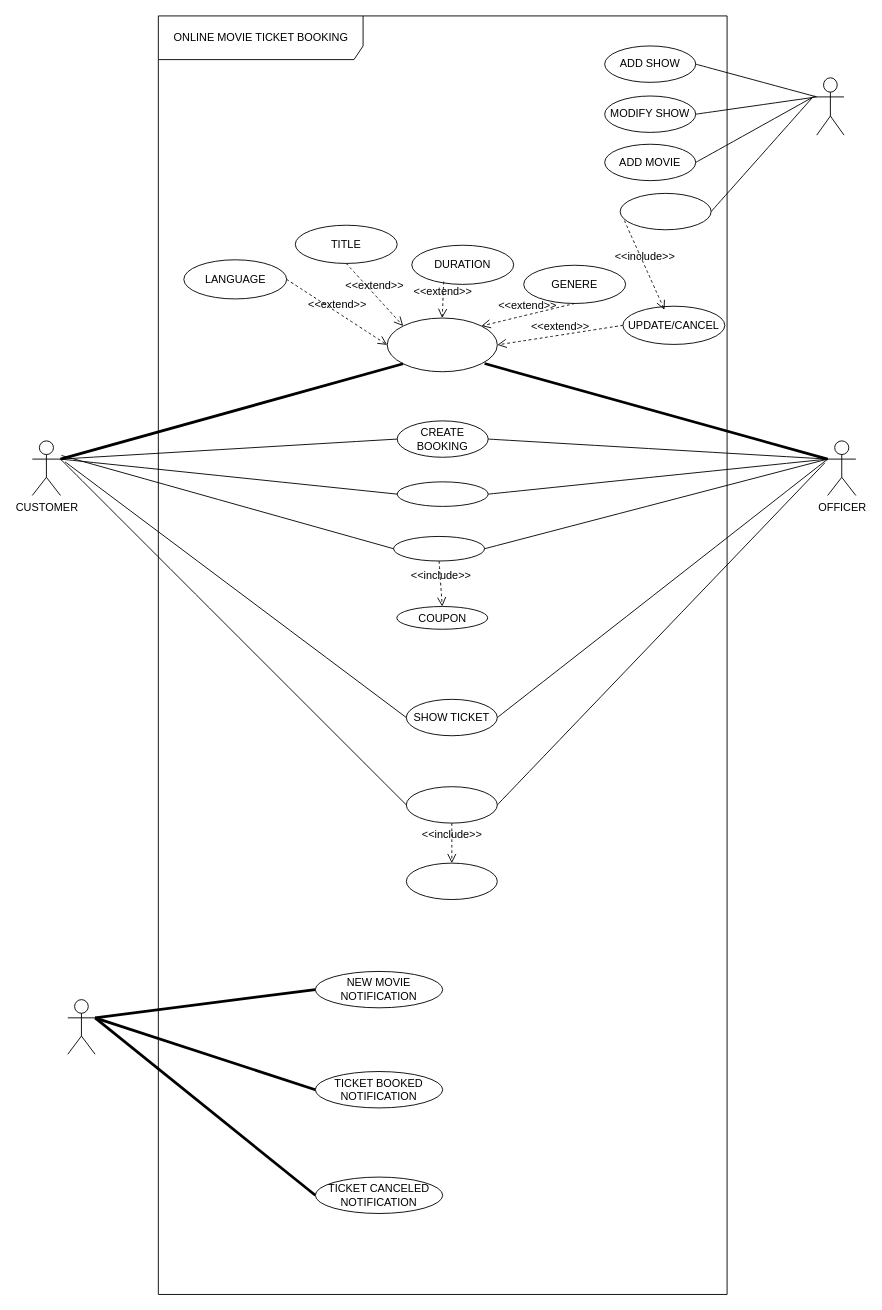
Image size: 882x1310. Some labels were removed from this diagram. Here are the shapes that lost their labels. From the top down, the centre of each, then its label:
pixel 830 106: ADMIN
pixel 665 211: CANCEL SHOW
pixel 441 344: SEARCH MOVIE
pixel 442 493: SELECT SEAT
pixel 439 548: MAKE PAYMENT
pixel 451 804: CANCEL TICKET
pixel 451 881: PAYMENT REFUND
pixel 81 1026: APP
